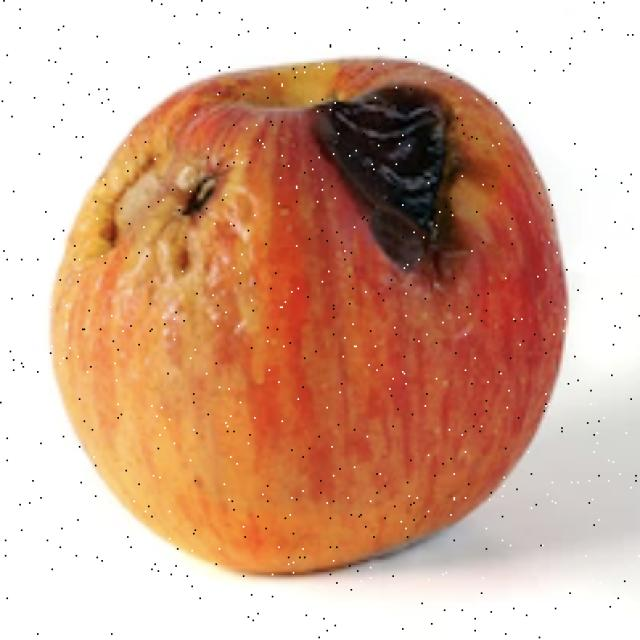Rotten: (41, 51, 570, 577)
